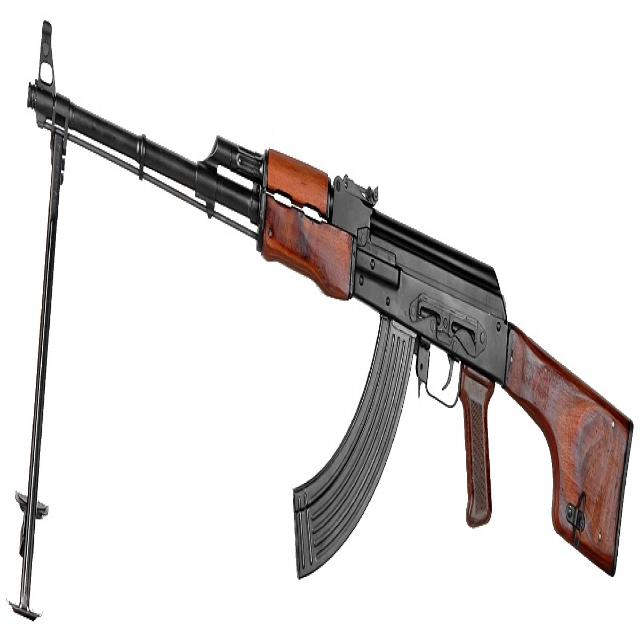gun: (10, 10, 637, 619)
